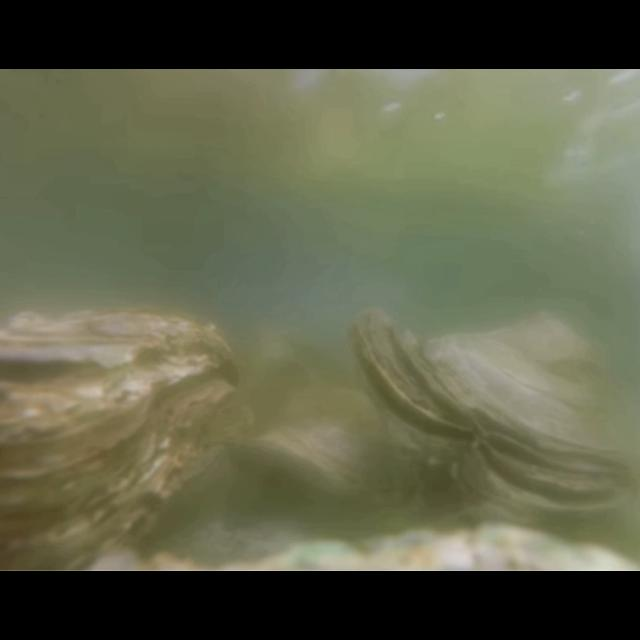Oyster-Closed: (1, 310, 252, 572), (229, 387, 423, 517)
Oyster-Open: (348, 308, 640, 532)
